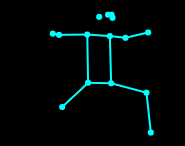warrior_2: (44, 11, 159, 139)
